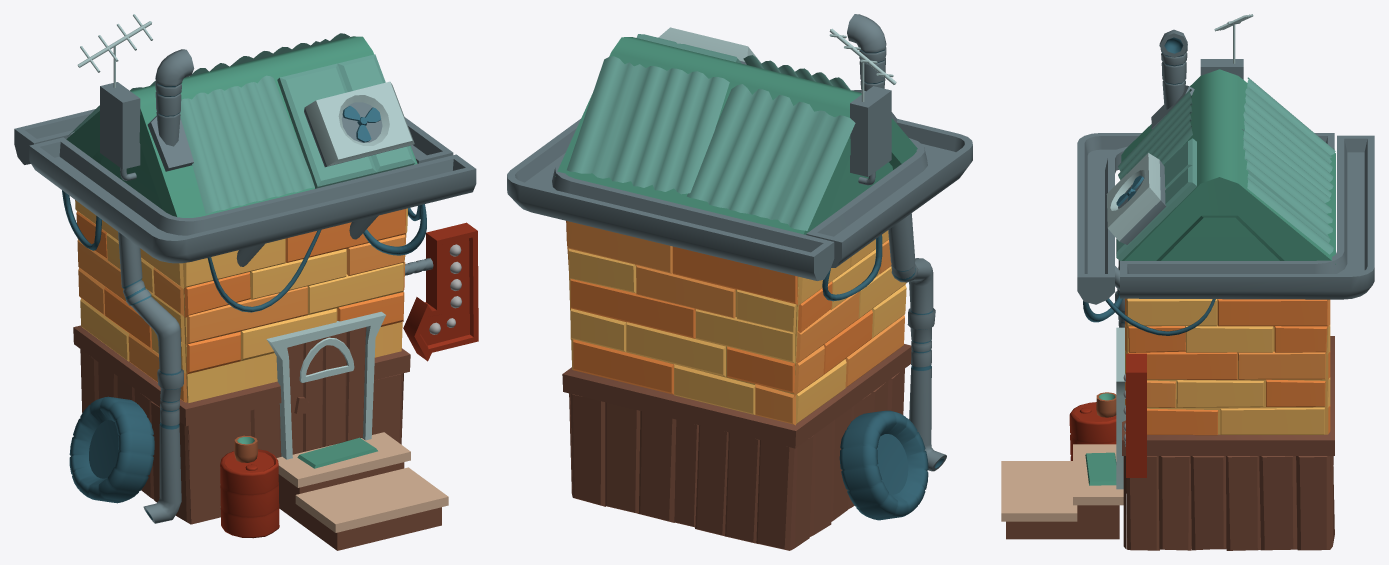
File: BO_House_01.fbx
The picture shows the model from 3 angles, left to right: view 1: azimuth 30°, elevation 25°; view 2: azimuth 150°, elevation 25°; view 3: azimuth 270°, elevation 25°; orthographic projection. The views are drawn at different scales.
Parts seen in each view (by area): view 1: BO_House_01; view 2: BO_House_01; view 3: BO_House_01.
Boxes of the visible parts, box(x1,y1,x2,y2) form: BO_House_01: box(14, 14, 478, 550); BO_House_01: box(507, 14, 972, 550); BO_House_01: box(1001, 14, 1374, 550).
Size of the model in its own units: 407 by 522 by 399.
